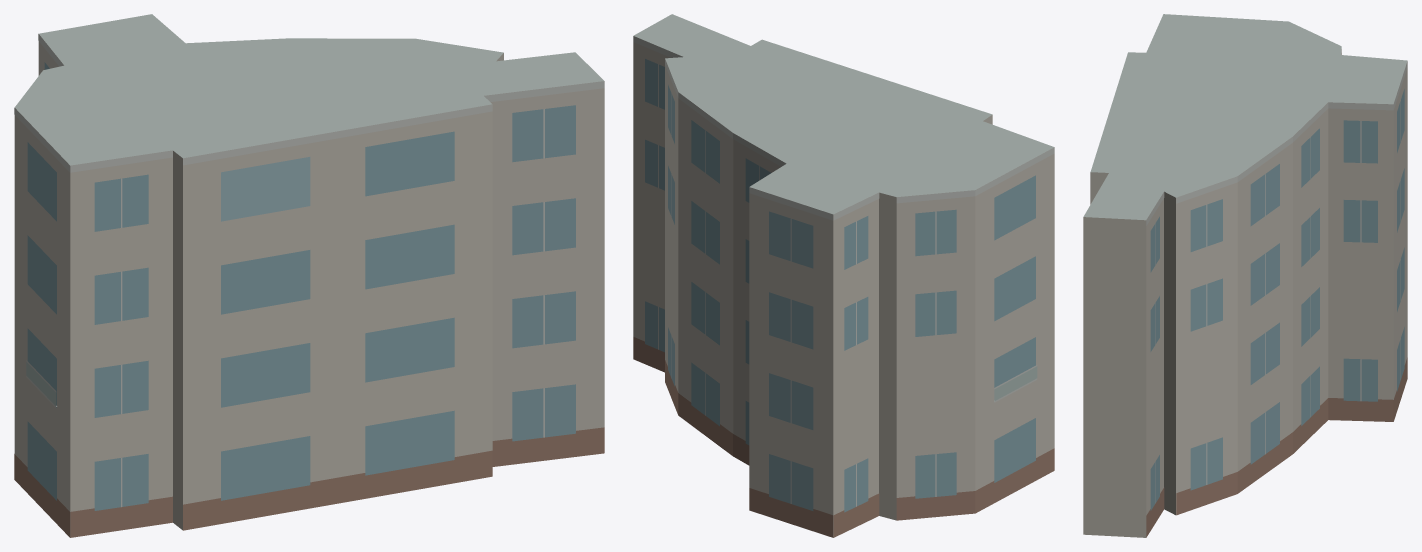
Rendered from survey-upis-32782767.glb.
The picture shows the model from 3 angles, left to right: view 1: azimuth 30°, elevation 25°; view 2: azimuth 150°, elevation 25°; view 3: azimuth 270°, elevation 25°; orthographic projection. The views are drawn at different scales.
Visible parts, largest first — view 1: survey-upis-32782767.tmp; view 2: survey-upis-32782767.tmp; view 3: survey-upis-32782767.tmp.
Part boxes in pixels (x1=…): survey-upis-32782767.tmp: x1=14, y1=14, x2=604, y2=537; survey-upis-32782767.tmp: x1=633, y1=14, x2=1054, y2=537; survey-upis-32782767.tmp: x1=1083, y1=14, x2=1407, y2=537.
Size of the model in its own units: 17.69 by 12.7 by 11.76.
